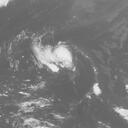cyclone: (30, 37, 75, 71)
